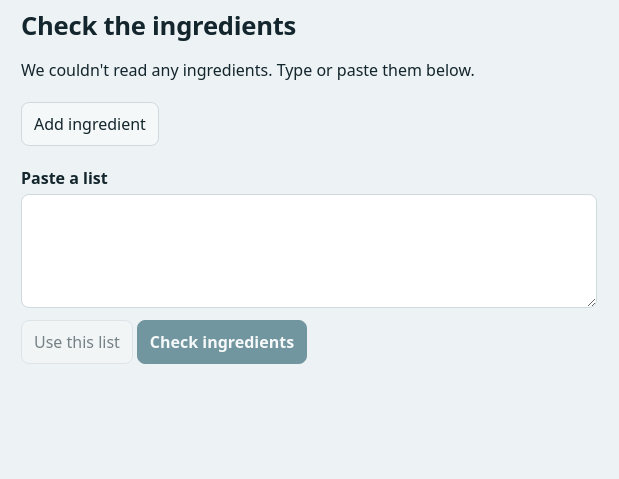
review: a description with no known names explains what to look for
Click the text box labelled "Paste a list" at (309, 251), box left=21, top=194, right=597, bottom=308
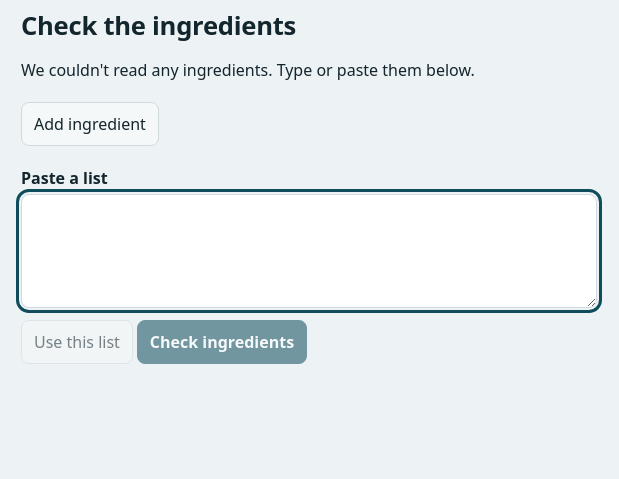
Type keys "Our lovely cream helps your skin glow, while we keep it light and fresh for you every day."
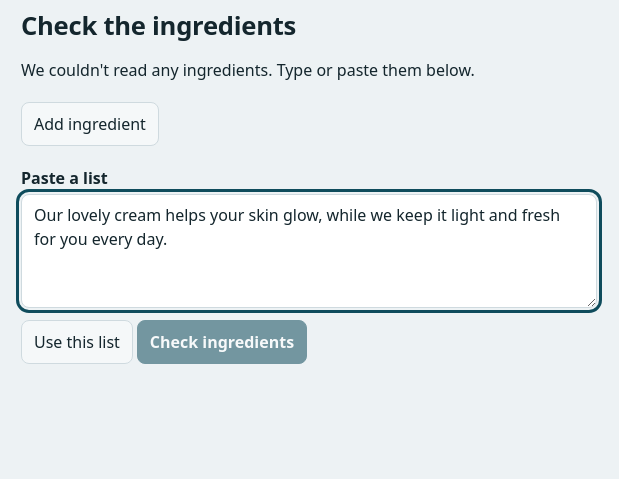
Click the button "Use this list" at (77, 342), box left=21, top=320, right=133, bottom=364
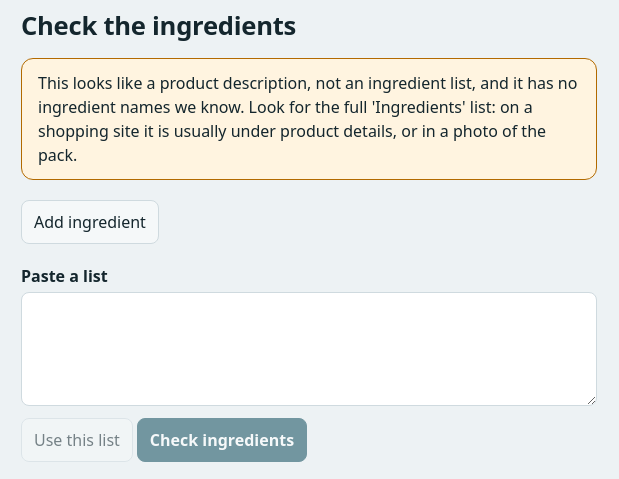
Expected: the text "no ingredient names we know" is shown, left=38, top=72, right=577, bottom=166
